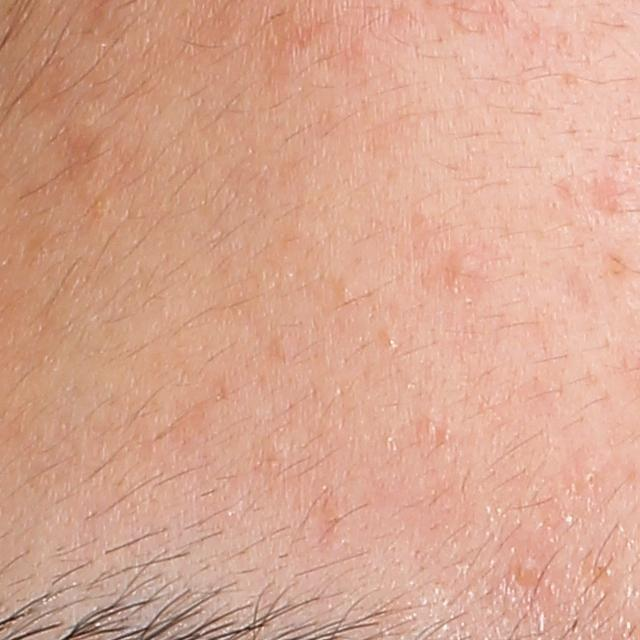comedo: (508, 551, 545, 584), (452, 252, 479, 279), (383, 331, 399, 351)
